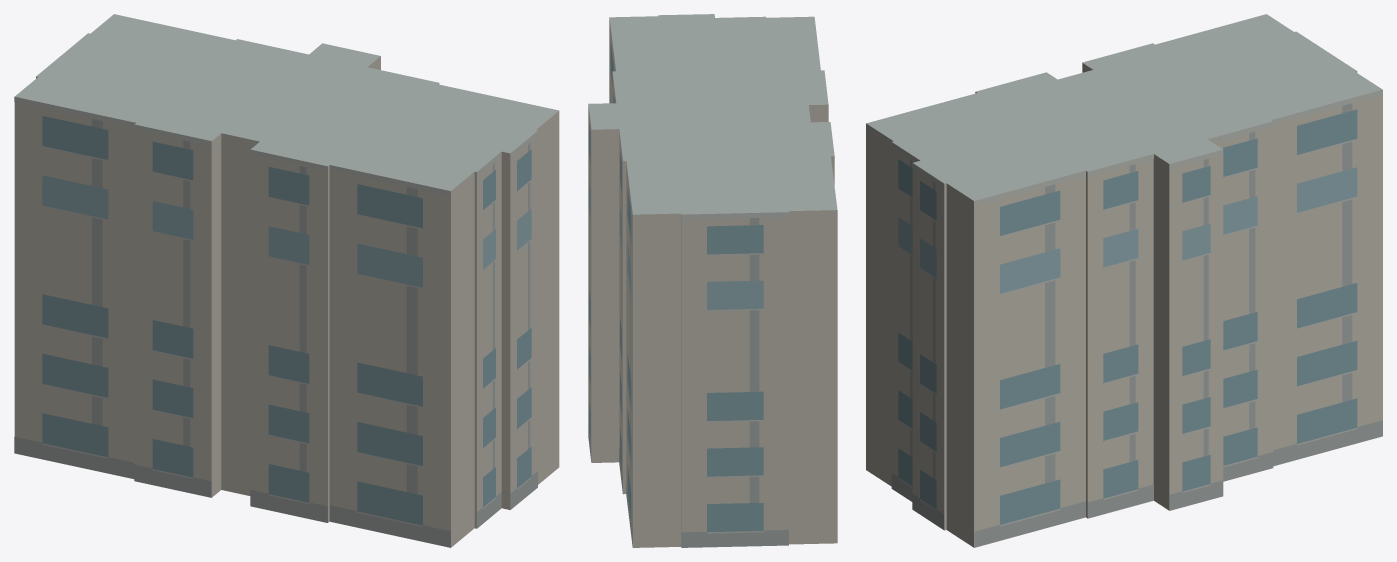
The model's file is residential-5e028f6c-fcb2-4fe2-b11f-456a89f213f8.glb.
The picture shows the model from 3 angles, left to right: view 1: azimuth 30°, elevation 25°; view 2: azimuth 150°, elevation 25°; view 3: azimuth 270°, elevation 25°; orthographic projection. The views are drawn at different scales.
Parts seen in each view (by area): view 1: residential-5e028f6c-fcb2-4fe2-b11f-456a89f213f8.tmp; view 2: residential-5e028f6c-fcb2-4fe2-b11f-456a89f213f8.tmp; view 3: residential-5e028f6c-fcb2-4fe2-b11f-456a89f213f8.tmp.
Part boxes in pixels (<box>): residential-5e028f6c-fcb2-4fe2-b11f-456a89f213f8.tmp: <box>14,14,559,547</box>; residential-5e028f6c-fcb2-4fe2-b11f-456a89f213f8.tmp: <box>588,14,837,547</box>; residential-5e028f6c-fcb2-4fe2-b11f-456a89f213f8.tmp: <box>866,14,1382,547</box>.
Bounding box in the file's own units: 18.58 × 16.05 × 21.68.
